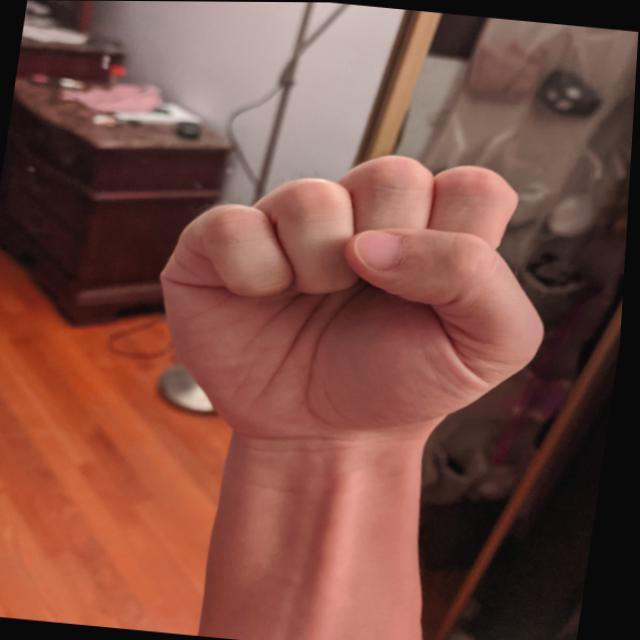S: (128, 129, 580, 474)
